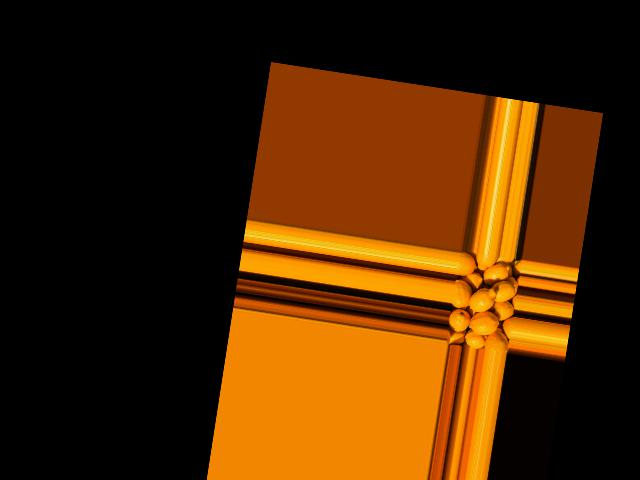lemon: (490, 276, 518, 303)
